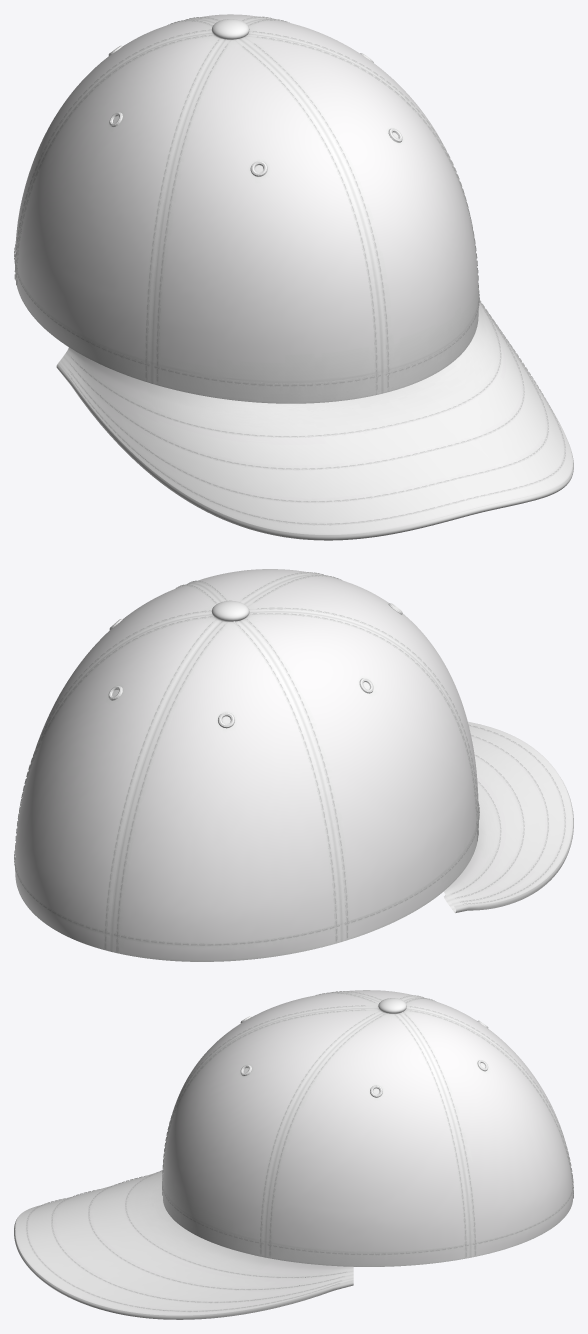
The model's file is flex.glb.
The picture shows the model from 3 angles, top to bottom: view 1: azimuth 30°, elevation 25°; view 2: azimuth 150°, elevation 25°; view 3: azimuth 270°, elevation 25°; orthographic projection. The views are drawn at different scales.
Visible parts, largest first — view 1: frente, aba, laterais, costura-aba, traseira, aba__beirada, costura-frente, costura-laterais, costura-traseira; view 2: traseira, laterais, aba, frente, costura-traseira, costura-laterais, costura-aba, costura-frente, aba__beirada, botao; view 3: laterais, frente, aba, traseira, costura-aba, aba__beirada, costura-frente, costura-traseira, costura-laterais.
Boxes of the visible parts, x1,y1,x2,y2 form: frente: [152, 34, 478, 403]; aba: [58, 303, 572, 534]; laterais: [16, 19, 467, 383]; costura-aba: [67, 300, 565, 525]; traseira: [15, 14, 269, 280]; aba__beirada: [56, 364, 573, 540]; costura-frente: [154, 36, 479, 389]; costura-laterais: [16, 19, 475, 378]; costura-traseira: [14, 16, 273, 279]; traseira: [15, 614, 341, 961]; laterais: [22, 583, 477, 941]; aba: [444, 721, 572, 907]; frente: [188, 569, 478, 837]; costura-traseira: [14, 616, 339, 951]; costura-laterais: [17, 584, 477, 937]; costura-aba: [451, 724, 565, 904]; costura-frente: [186, 572, 479, 835]; aba__beirada: [455, 780, 573, 912]; botao: [211, 600, 249, 621]; laterais: [265, 990, 470, 1266]; frente: [163, 992, 383, 1257]; aba: [15, 1171, 353, 1315]; traseira: [399, 997, 573, 1257]; costura-aba: [26, 1170, 346, 1311]; aba__beirada: [14, 1219, 353, 1319]; costura-frente: [162, 992, 374, 1253]; costura-traseira: [402, 998, 573, 1255]; costura-laterais: [267, 991, 468, 1256].
Bounding box in the file's own units: 1.7 × 1.37 × 2.73.
10 materials, 6 textured.
